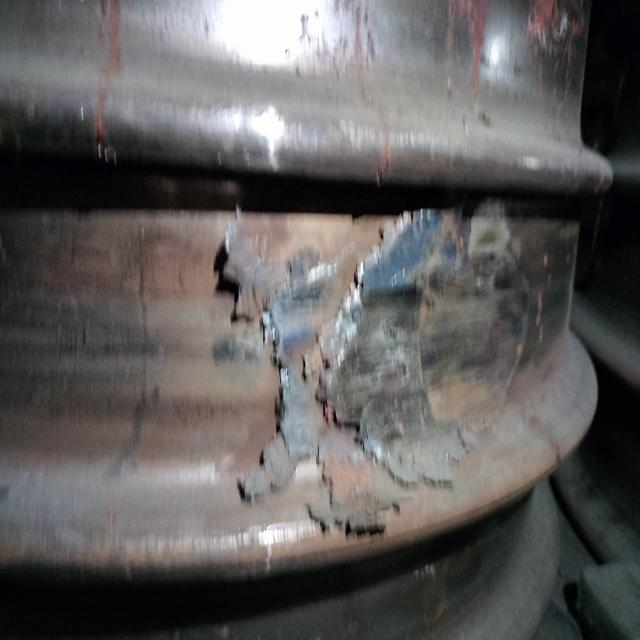Rollerpile: (206, 167, 559, 525)
flat: (404, 240, 551, 416)
